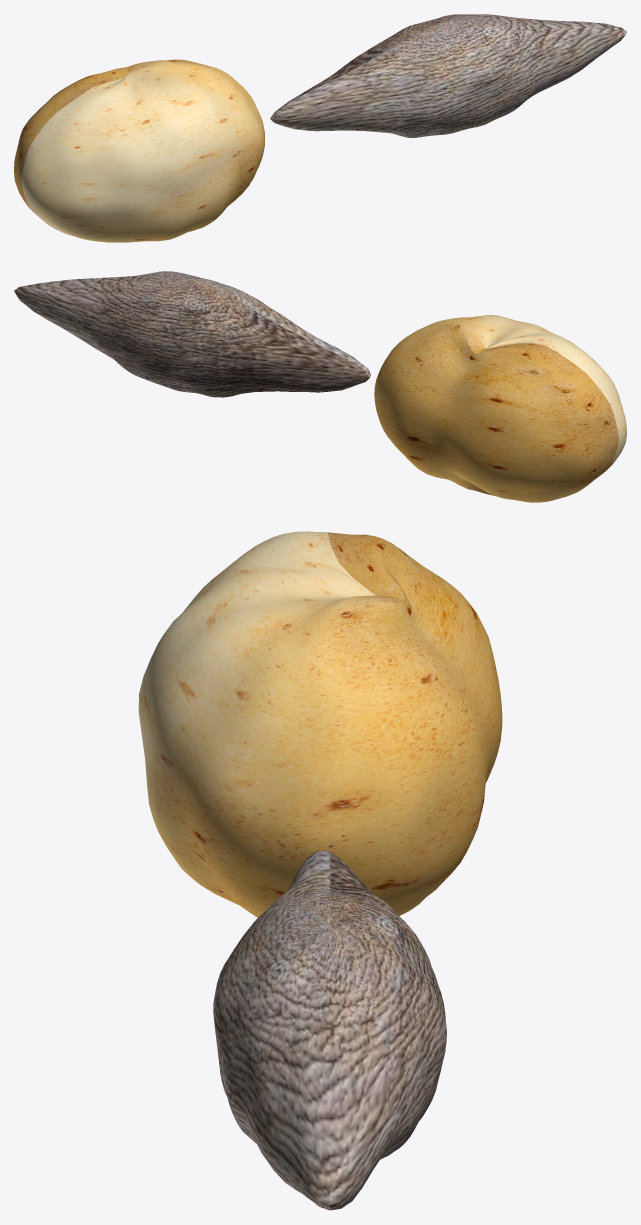
Rendered from potato.gltf.
3 views of the same model, one above another, from view 1: azimuth 30°, elevation 25°; view 2: azimuth 150°, elevation 25°; view 3: azimuth 270°, elevation 25° (orthographic). The views are drawn at different scales.
Parts seen in each view (by area): view 1: Sphere.002; view 2: Sphere.002; view 3: Sphere.002.
Part boxes in pixels (bbox=[...]): Sphere.002: bbox=[14, 14, 626, 242]; Sphere.002: bbox=[14, 271, 626, 502]; Sphere.002: bbox=[138, 531, 502, 1210].
Bounding box in the file's own units: 9.17 × 2.25 × 2.39.
2 materials, 2 textured.
